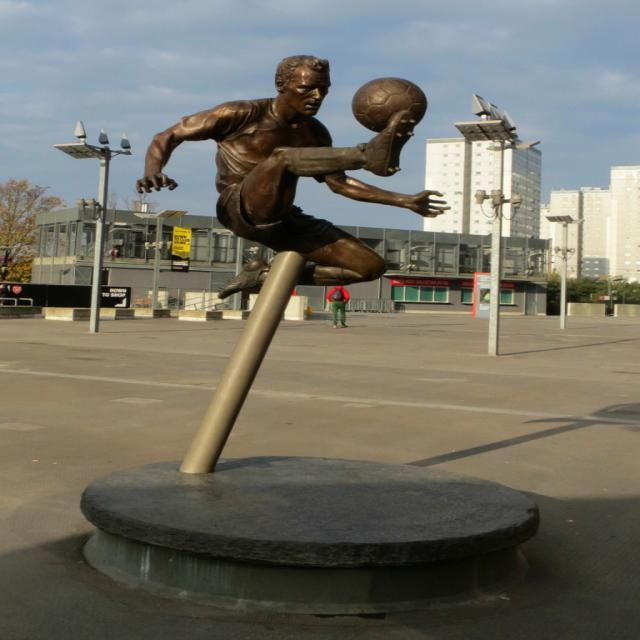football: (346, 67, 432, 138)
